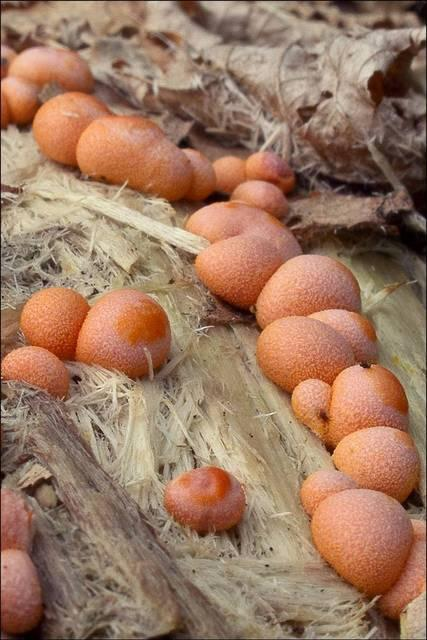poisonous_mushroom: (3, 44, 424, 625), (309, 487, 413, 596), (75, 113, 193, 201), (74, 287, 172, 378), (253, 252, 362, 328), (255, 314, 355, 392), (162, 464, 247, 534)
